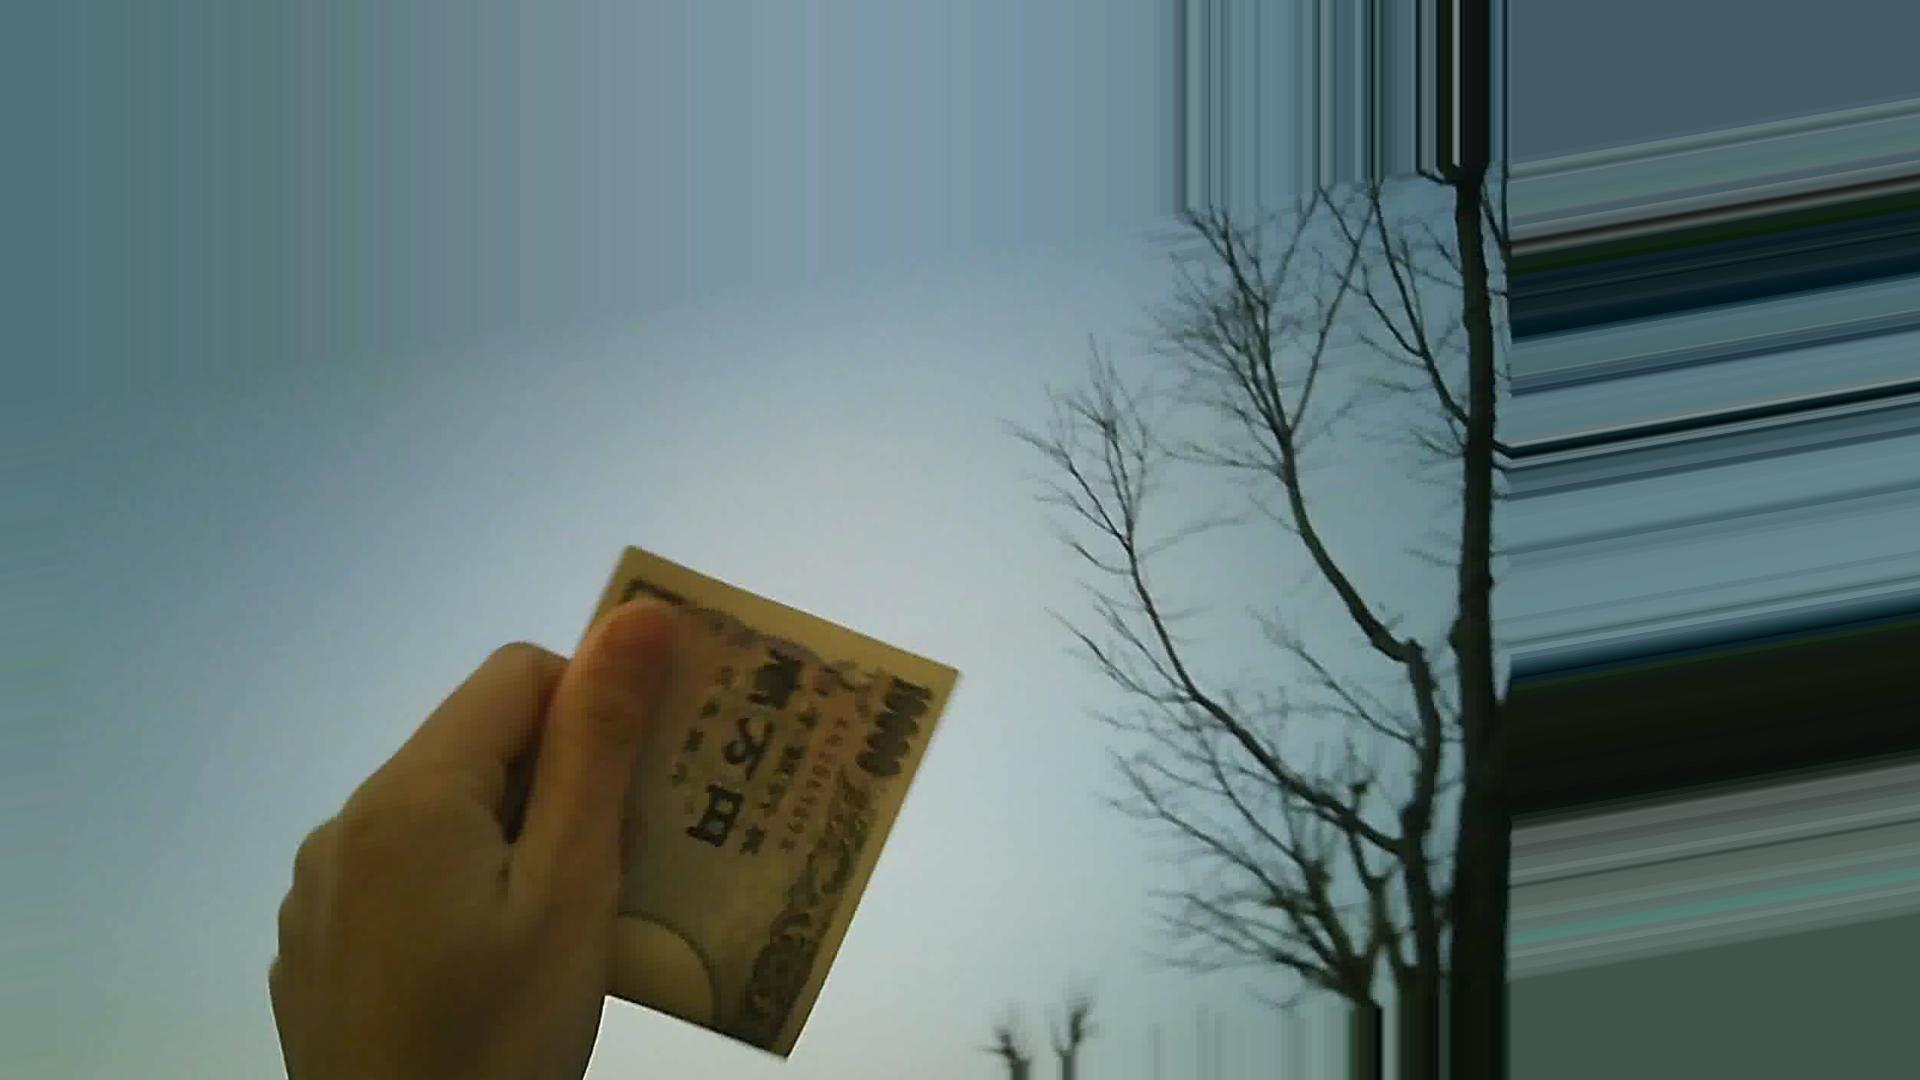10,000 Yen: (436, 541, 938, 1073)
